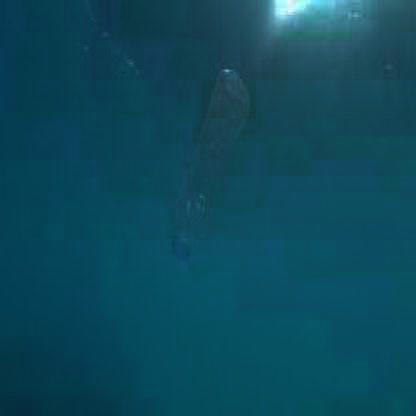pbottle: (156, 62, 250, 270)
